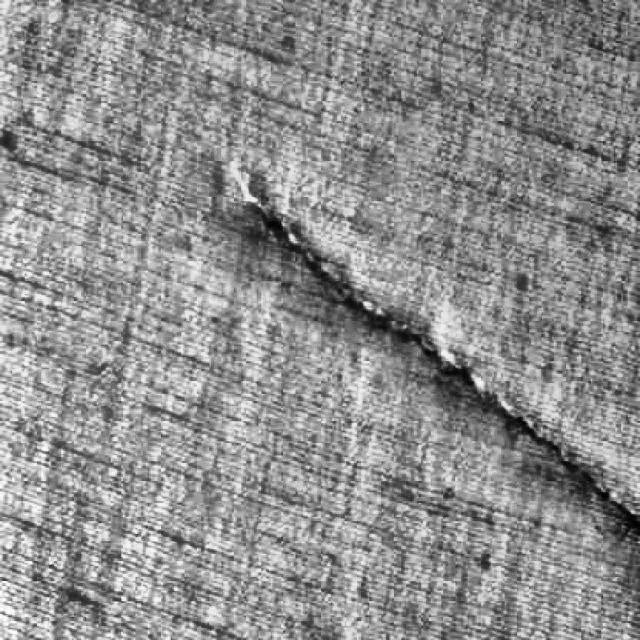objects: (221, 156, 640, 538)
